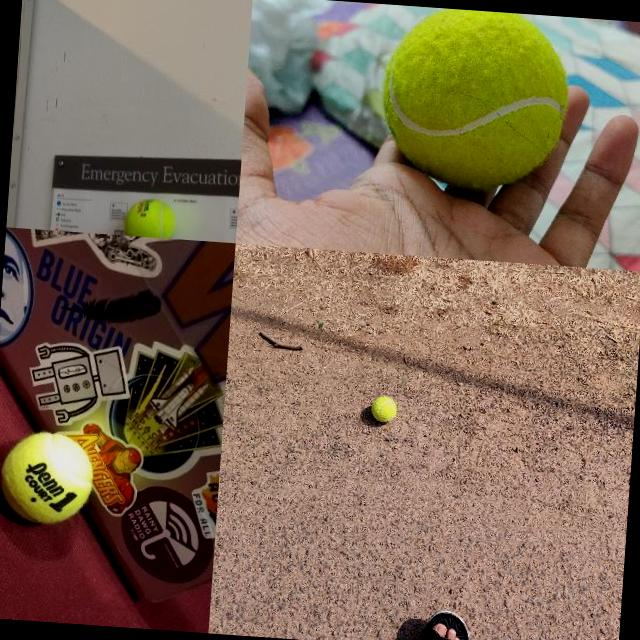Tennis Ball: (374, 4, 572, 198), (0, 428, 95, 527), (122, 196, 178, 238), (370, 396, 397, 422)
